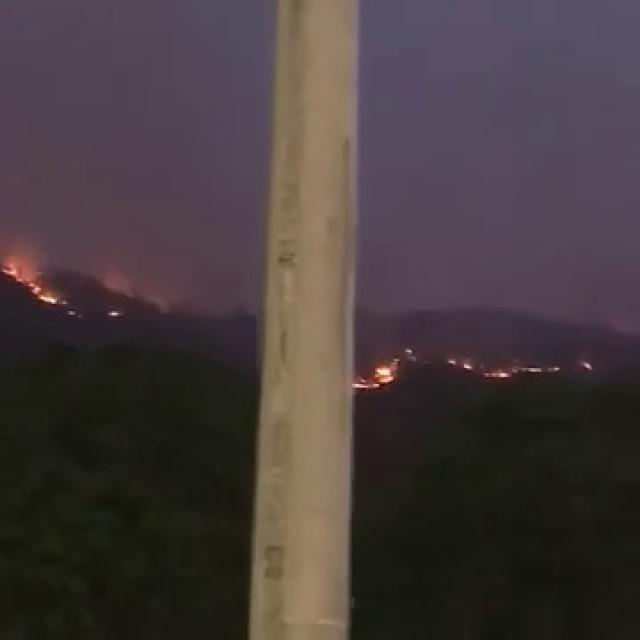Fire: (1, 266, 70, 312), (446, 356, 562, 380), (356, 348, 410, 393), (580, 356, 594, 374)
Smoke: (146, 271, 176, 315), (98, 261, 132, 295)
